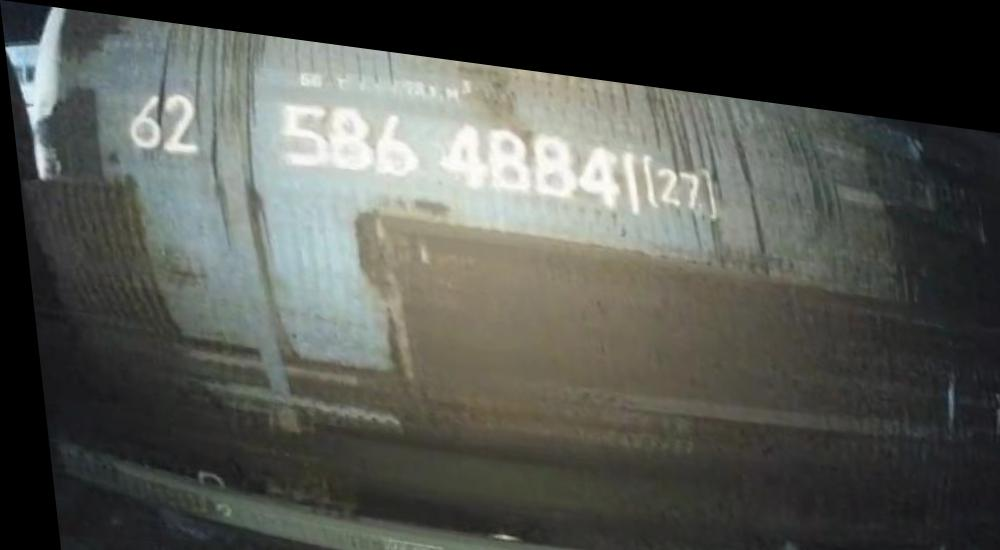Wagon-number: (273, 89, 644, 204)
